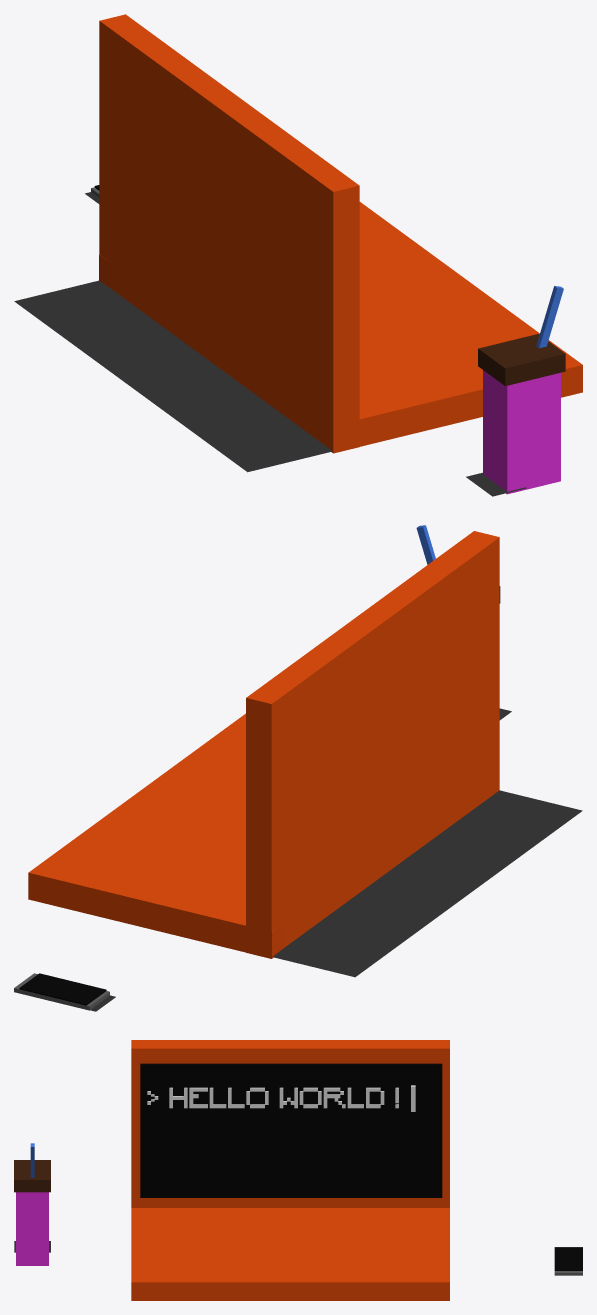
The model's file is gear.glb.
3 views of the same model, one above another, from view 1: azimuth 30°, elevation 25°; view 2: azimuth 150°, elevation 25°; view 3: azimuth 270°, elevation 25° (orthographic). The views are drawn at different scales.
Parts seen in each view (by area): view 1: Cube.001, Cube, Plane, Cube.003, Cube.006, Cube.007; view 2: Cube.001, Cube, Plane, Cube.005; view 3: Cube.002, Cube, Cube.001, Text, Cube.003, Cube.006, Cube.005.
Boxes of the visible parts, x1,y1,x2,y2 form: Cube.001: (99, 14, 359, 453); Cube: (99, 202, 582, 451); Plane: (14, 280, 332, 472); Cube.003: (483, 370, 560, 494); Cube.006: (478, 334, 565, 385); Cube.007: (536, 286, 563, 348); Cube.001: (246, 531, 499, 958); Cube: (28, 713, 283, 958); Plane: (273, 790, 582, 977); Cube.005: (19, 973, 106, 1005); Cube.002: (140, 1063, 442, 1197); Cube: (131, 1208, 449, 1300); Cube.001: (131, 1040, 449, 1207); Text: (147, 1087, 398, 1108); Cube.003: (16, 1192, 48, 1265); Cube.006: (14, 1160, 50, 1192); Cube.005: (554, 1247, 582, 1270).
Size of the model in its own units: 0.203 by 0.1533 by 0.4383.
